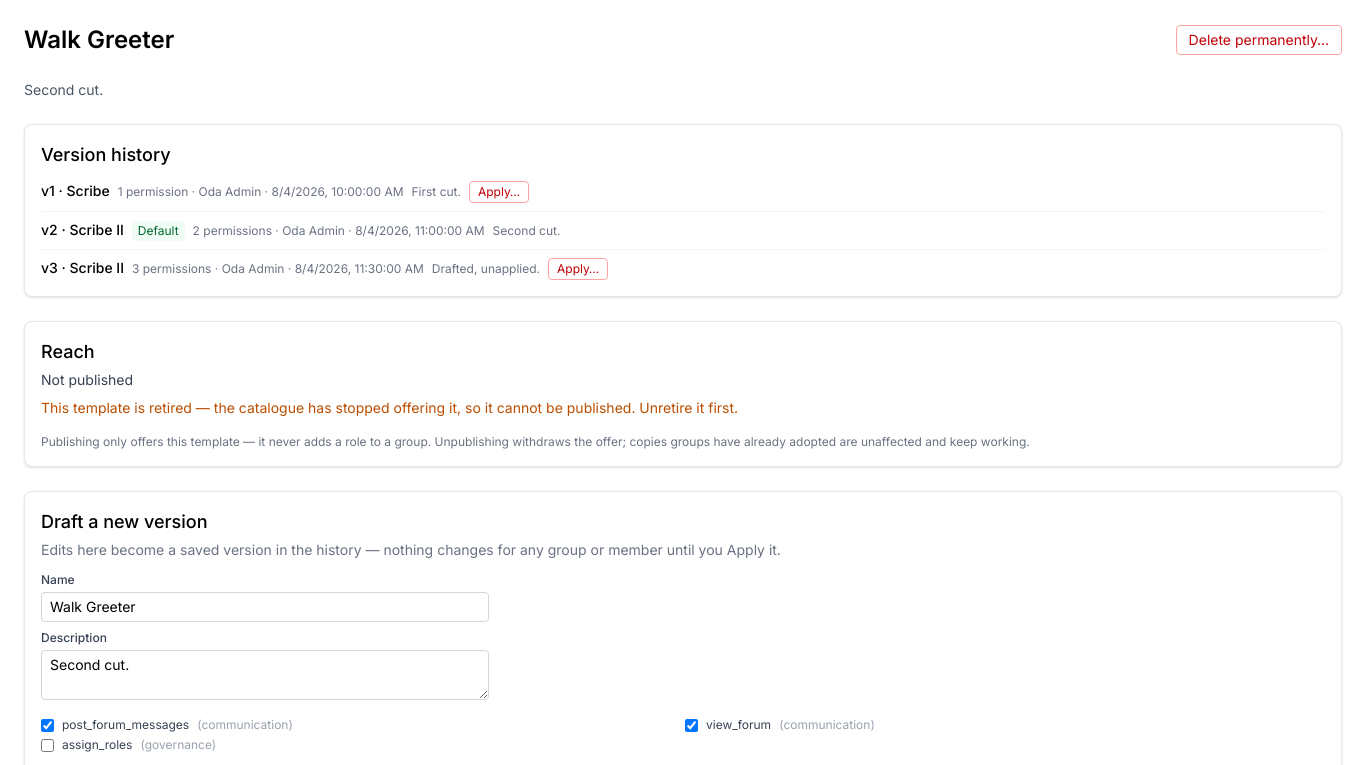
Test: AdminRoleTemplateDetail — disposal (FEAT-H045 STORY-2) › a refusal is surfaced VERBATIM, the admin stays, and the view refreshes
This screenshot has width=1366, height=765.
Check: the heading "Walk Greeter" is shown, box [24, 24, 174, 56]
Click the button with test id "delete-template-button" at (1259, 40), box [1176, 25, 1342, 55]
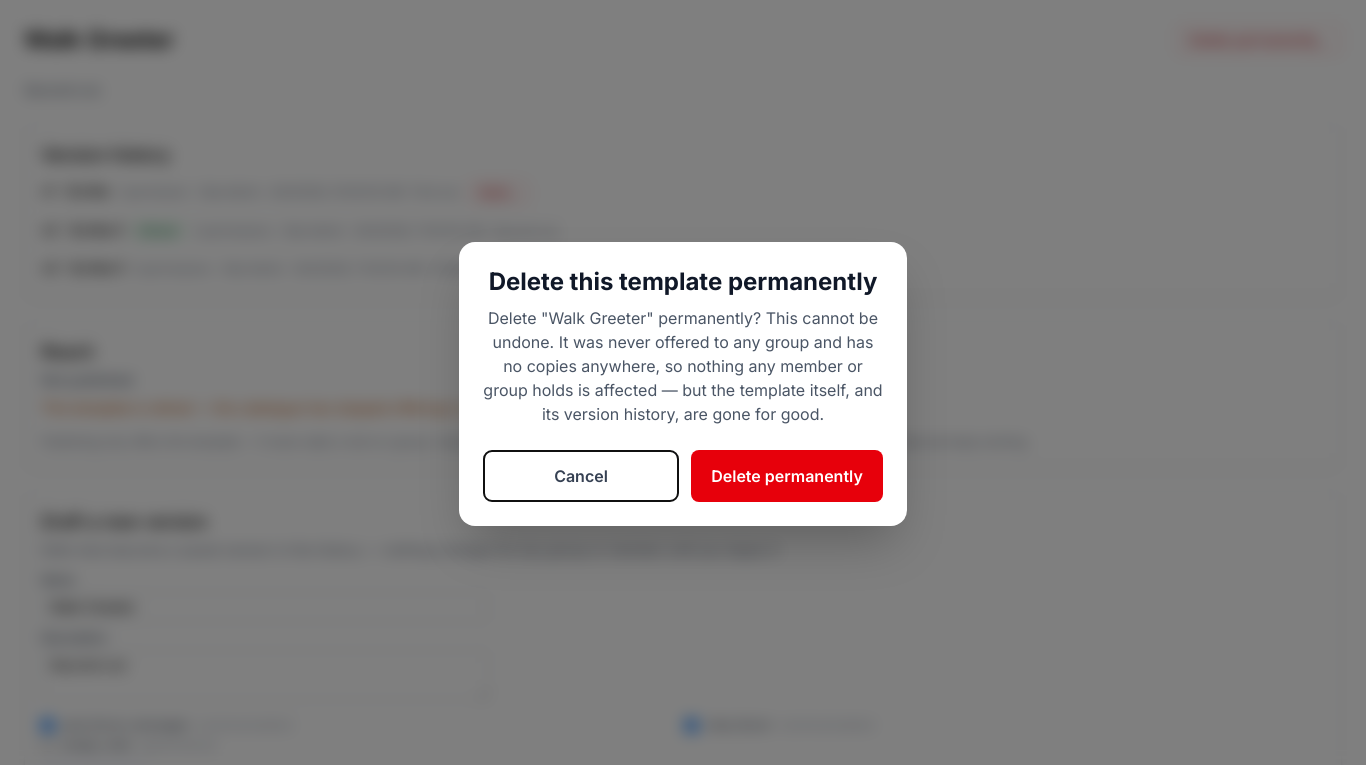
Click the button with test id "confirm-modal-confirm" at (787, 476), box [691, 450, 883, 502]
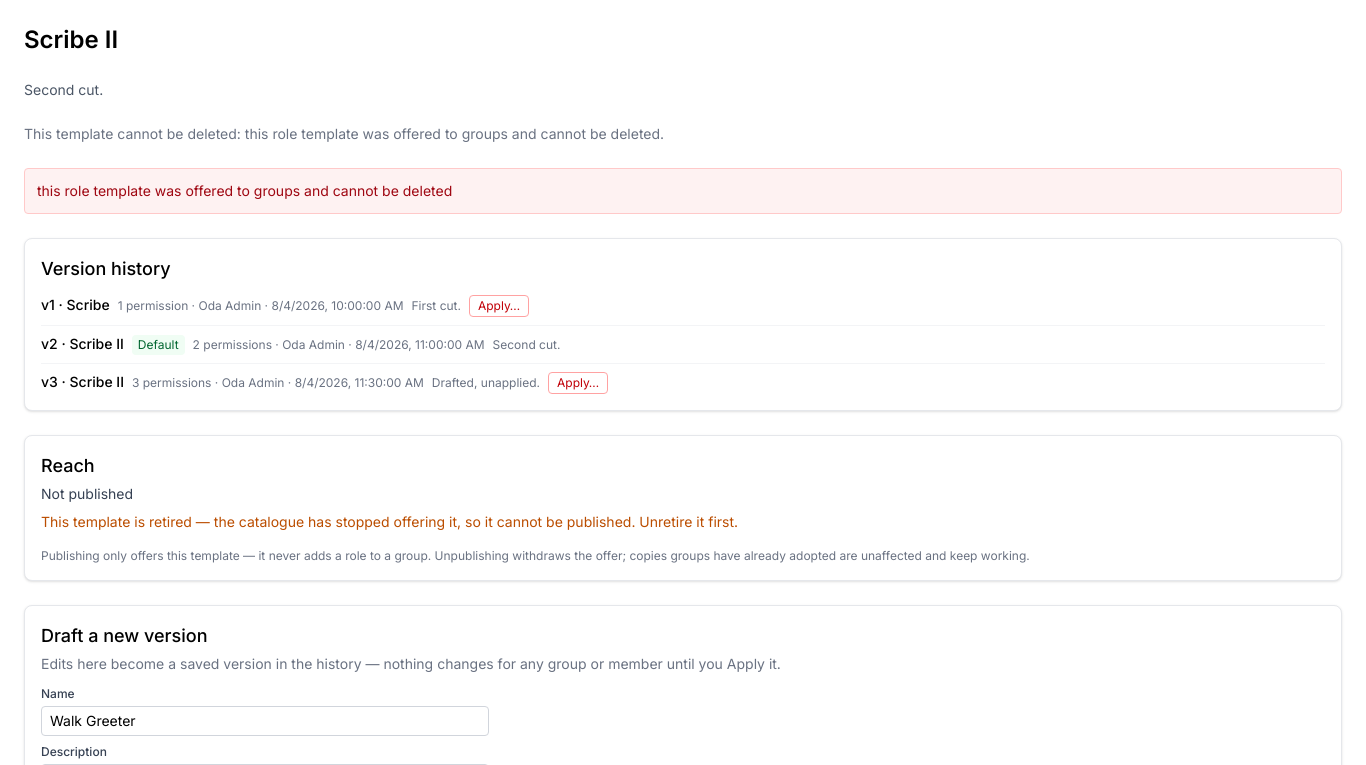
Check: the message with test id "ceremony-outcome" reads "this role template was offered to groups and cannot be deleted", box [37, 182, 452, 199]
